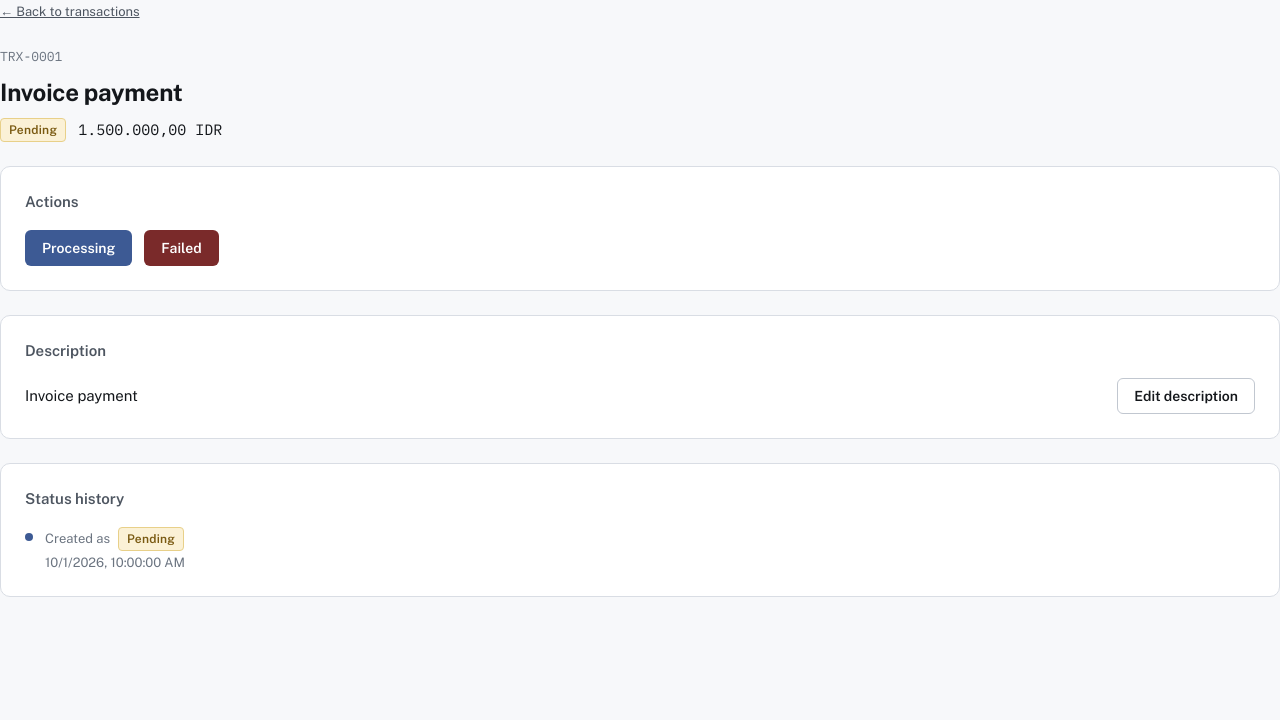
Test case: TransactionDetail — transitions › Escape closes the confirmation dialog without transitioning
The image size is (1280, 720).
Click the button "Failed".
click(181, 248)  # box [144, 230, 219, 266]
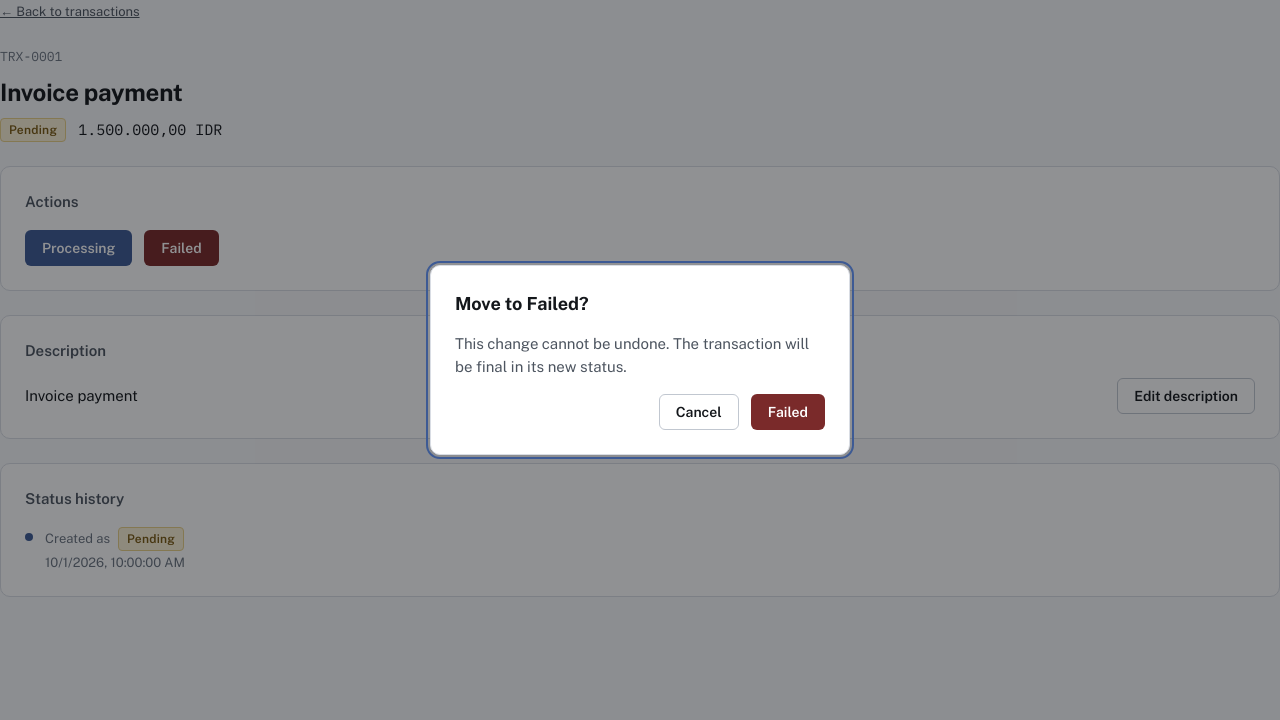
Check: the dialog is shown, box [430, 265, 850, 455]
Press Escape
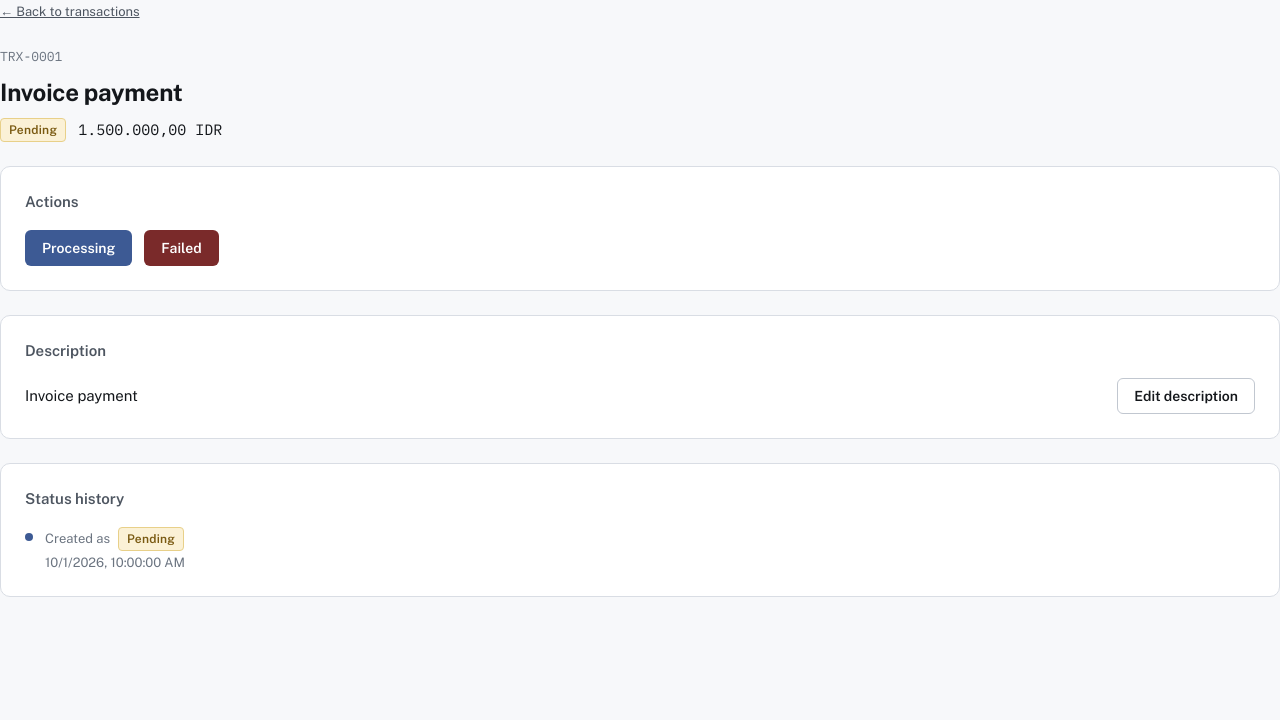
Check: the dialog is gone
